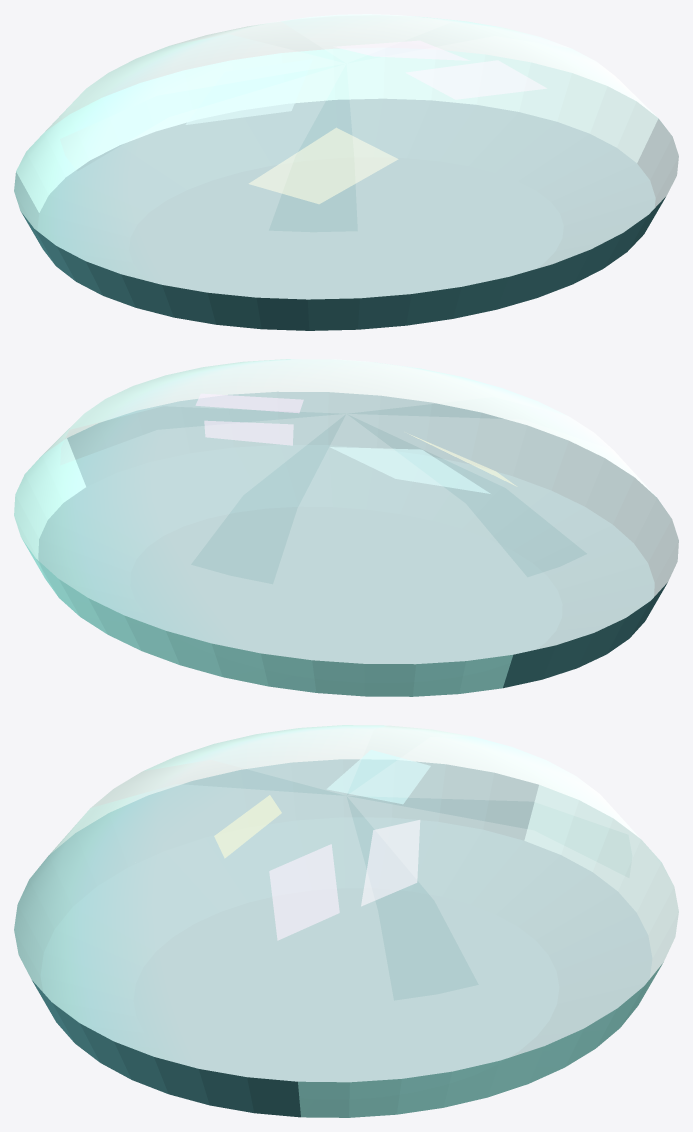
Rendered from Opal.glb.
The picture shows the model from 3 angles, top to bottom: view 1: azimuth 30°, elevation 25°; view 2: azimuth 150°, elevation 25°; view 3: azimuth 270°, elevation 25°; orthographic projection. The views are drawn at different scales.
Visible parts, largest first — view 1: Opal_Cabochon; view 2: Opal_Cabochon; view 3: Opal_Cabochon.
Boxes of the visible parts, x1,y1,x2,y2 form: Opal_Cabochon: (14,14,678,330); Opal_Cabochon: (14,359,678,696); Opal_Cabochon: (14,725,678,1117).
Size of the model in its own units: 1.15 by 0.33 by 1.
